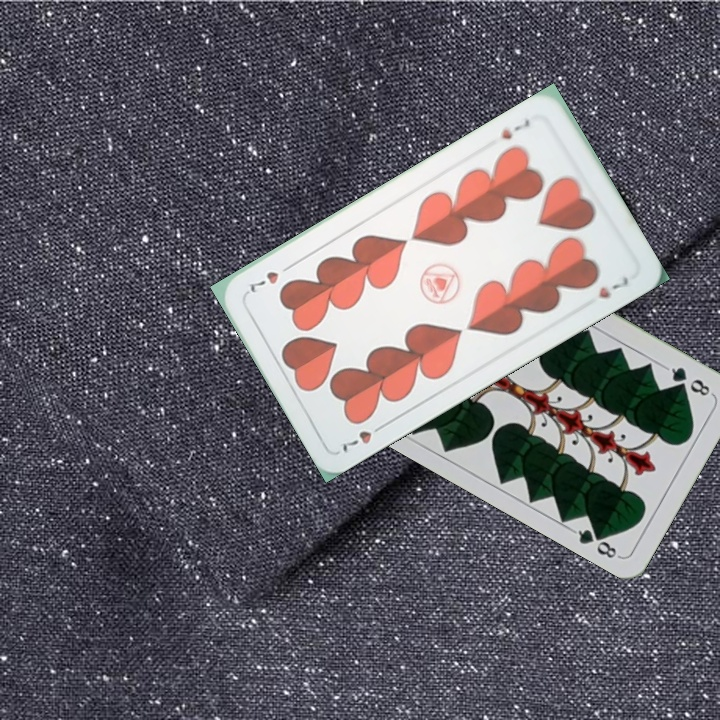G8: (661, 363, 715, 399)
H7: (338, 418, 389, 457), (495, 115, 533, 143)
